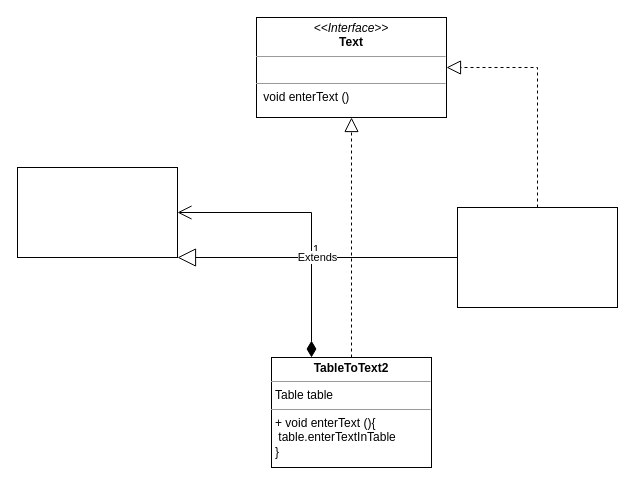
Some shapes in this 635 by 485 pixel diagram are drawn without their labels. Here are the shapes that lost their labels. From the top down, the centre of each, then its label:
At (97,212): "Table + void enterTextInTable ()".
At (537,257): "TableToText + void enterText (){ enterTextInTable }".
